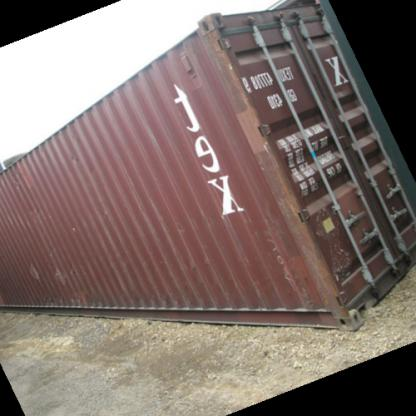Damage: (201, 20, 252, 116), (256, 215, 307, 302), (51, 260, 85, 288), (59, 150, 97, 175), (19, 195, 48, 222), (25, 254, 48, 283)
